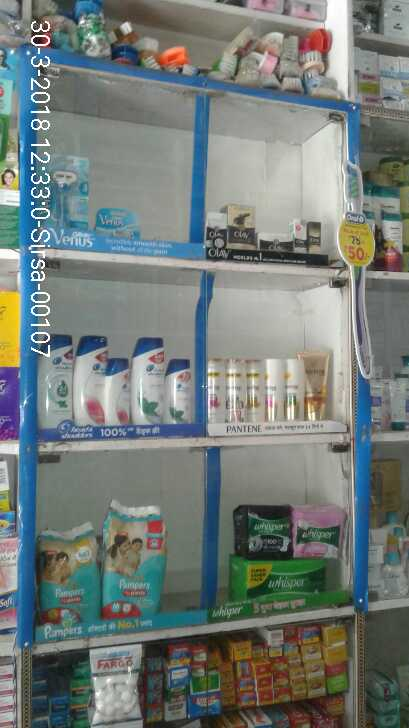venus: (39, 154, 91, 232), (94, 207, 141, 235)
